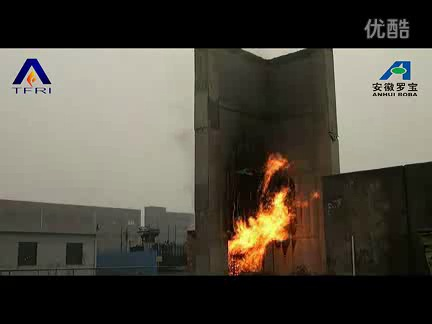fire: (224, 153, 308, 277)
